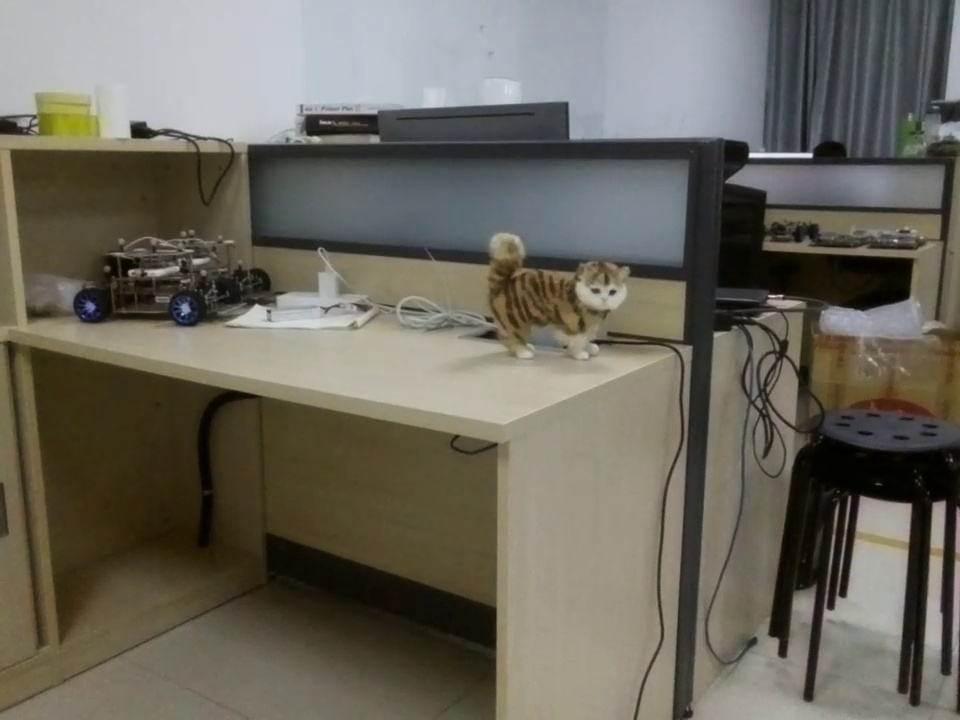cat: (479, 213, 648, 368)
